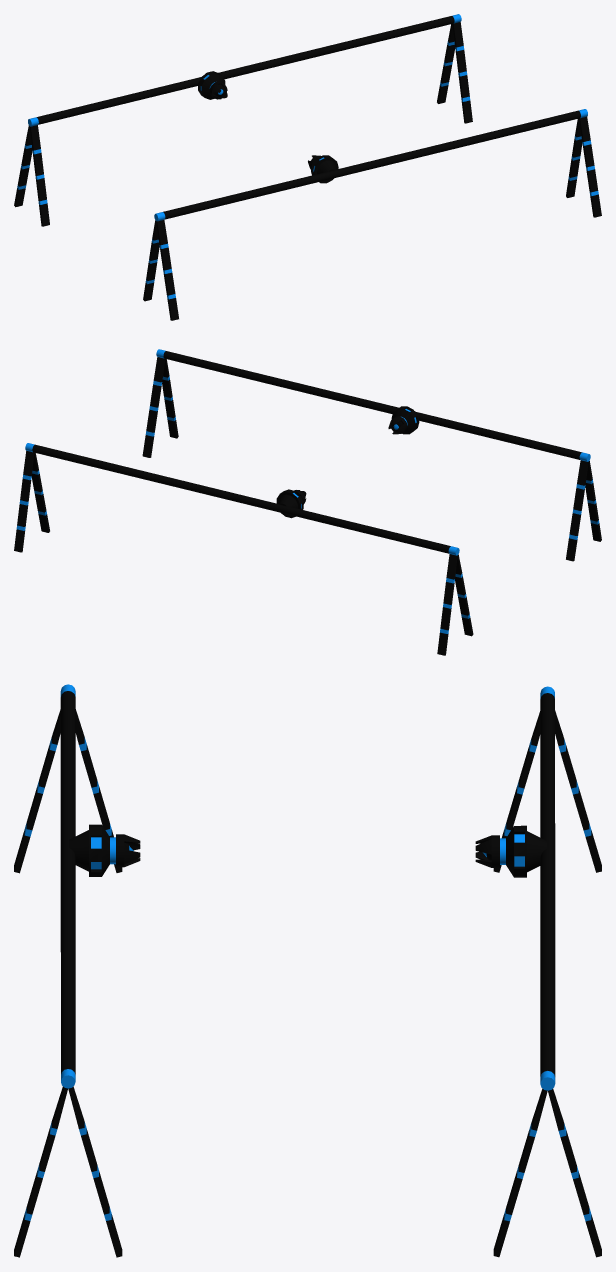
Rendered from Moving laser thrower.FBX.
3 renders of one model, top to bottom at view 1: azimuth 30°, elevation 25°; view 2: azimuth 150°, elevation 25°; view 3: azimuth 270°, elevation 25°, orthographic. The views are drawn at different scales.
Parts seen in each view (by area): view 1: Cylinder093, Cylinder085, Cylinder087, Cylinder092; view 2: Cylinder085, Cylinder093, Cylinder092, Cylinder087; view 3: Cylinder093, Cylinder085, Cylinder092, Cylinder087.
Boxes of the visible parts, box(x1,y1,x2,y2) form: Cylinder093: box(143, 109, 601, 320); Cylinder085: box(14, 14, 472, 226); Cylinder087: box(198, 71, 227, 99); Cylinder092: box(308, 155, 338, 183); Cylinder085: box(14, 443, 473, 655); Cylinder093: box(142, 349, 601, 561); Cylinder092: box(388, 406, 419, 434); Cylinder087: box(276, 489, 306, 518); Cylinder093: box(14, 684, 122, 1257); Cylinder085: box(493, 686, 601, 1257); Cylinder092: box(69, 824, 140, 876); Cylinder087: box(475, 825, 546, 877).
Size of the model in its own units: 459 by 108 by 290.
